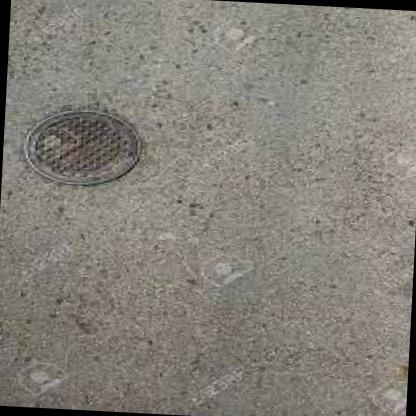manholes: (6, 97, 164, 203)
